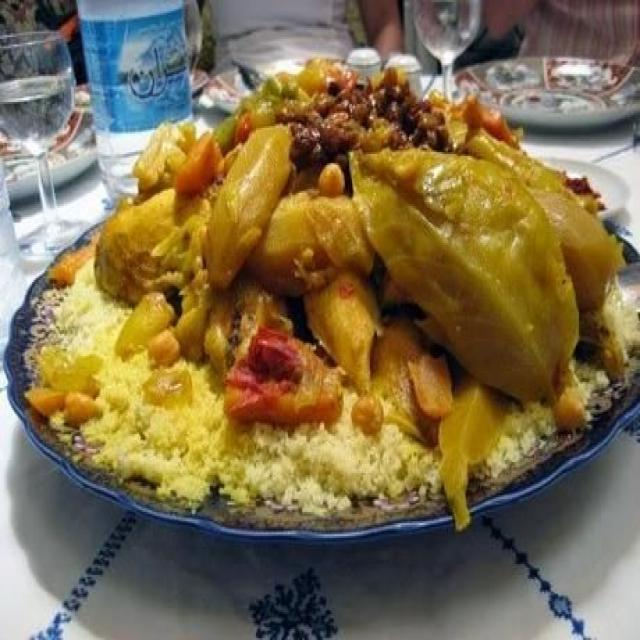Couscous: (20, 56, 640, 526)
